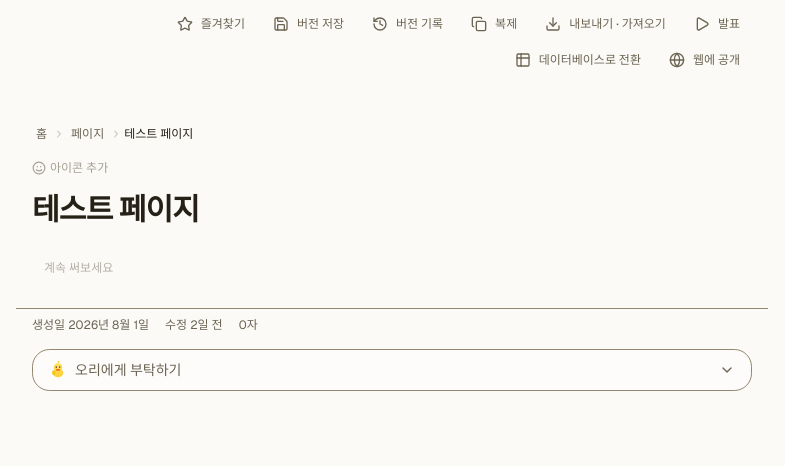
Test: PageEditor — 디바운스 자동저장 › 저장이 실패하면 저장 실패 문구와 다시 시도 버튼을 보여주고, 눌러 재시도한다
The image size is (785, 466).
Replace the text in the field named "페이지 제목" with "실패할 제목" at [392, 210], box [16, 192, 768, 228]
Wait 800 ms
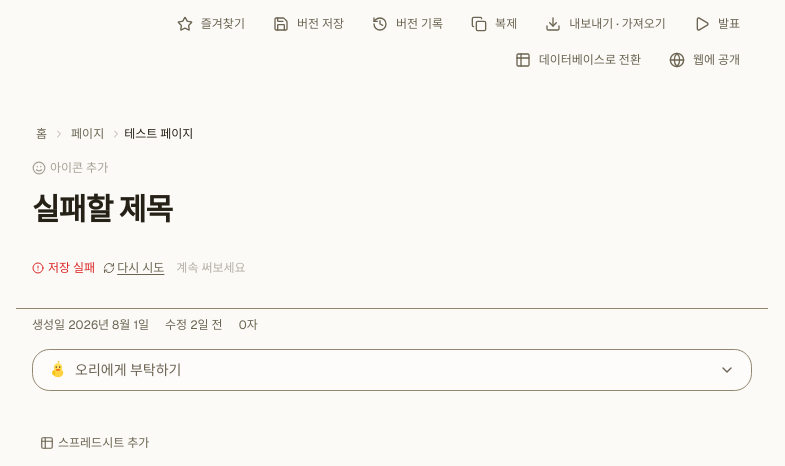
Expected: the text "저장 실패" is shown, [48, 260, 95, 276]
Click the button with aria-label "저장 다시 시도" at [134, 268], box [103, 260, 164, 276]
Wait 800 ms
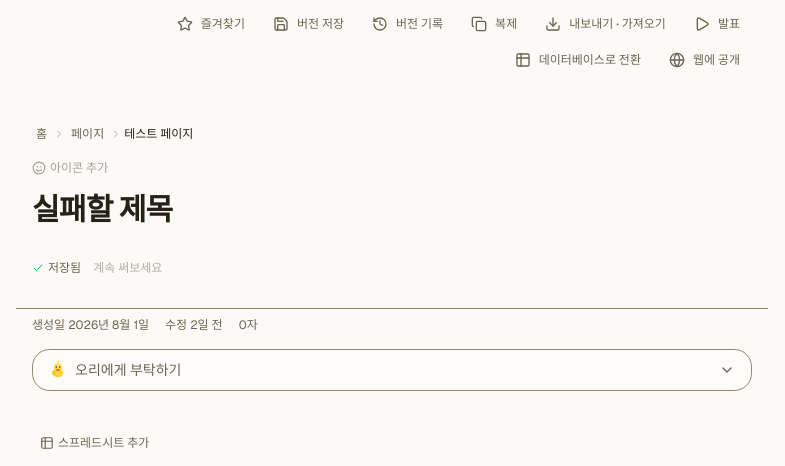
Expected: the text "저장됨" is shown, [32, 260, 81, 276]
